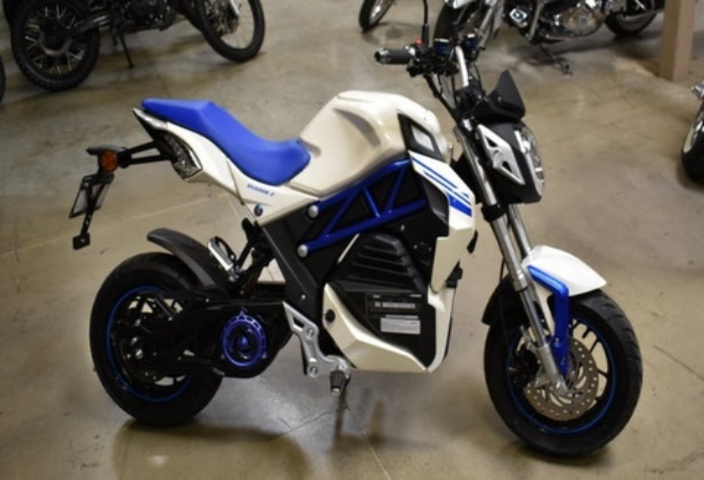motorcycle: (46, 41, 668, 469)
